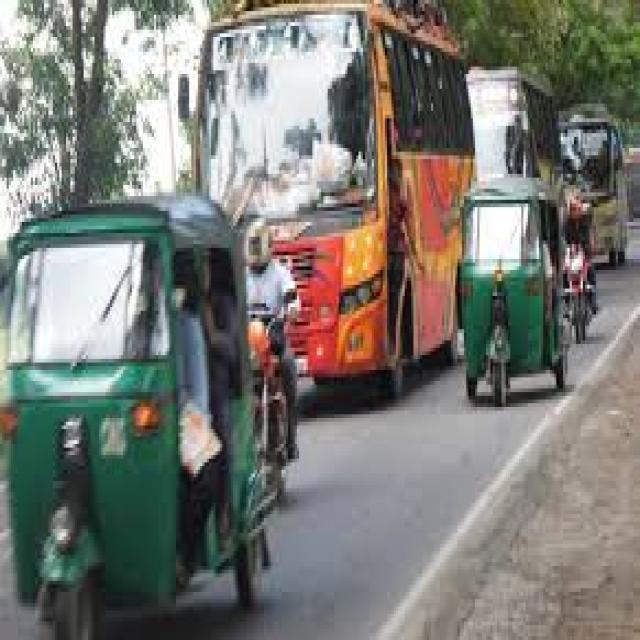bus: (200, 0, 471, 388), (559, 111, 625, 266), (466, 67, 554, 181)
motorcycle: (246, 292, 297, 496), (565, 244, 587, 344)
person: (246, 218, 297, 459), (387, 152, 407, 359), (567, 189, 589, 255)
three wheeler: (0, 196, 284, 640), (460, 178, 565, 407)
